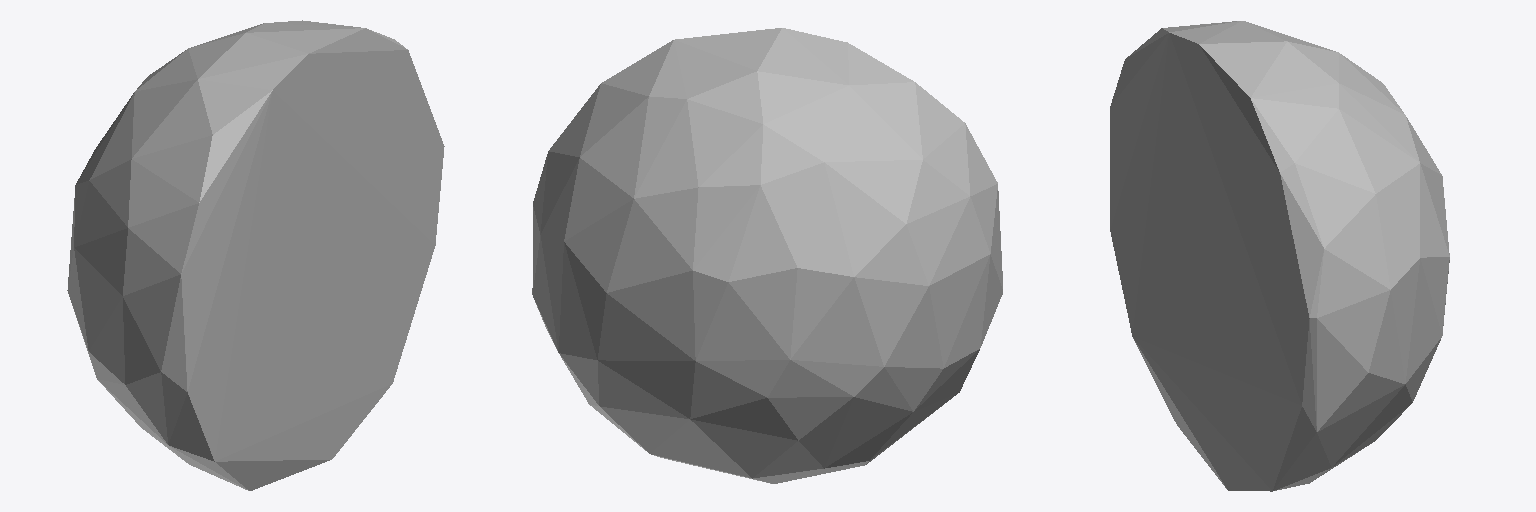
URDF robot description (root):
<robot name="root">
  <link name="link_thingiverse~half_dome_2878274_convex_piece_0">
    <inertial>
      <origin rpy="0 0 0" xyz="0 0 0"/>
      <mass value="1.54E-01"/>
      <inertia ixx="3.26E-05" ixy="5.97E-06" ixz="4.70E-08" iyy="4.23E-05" iyz="-1.66E-07" izz="2.99E-05"/>
    </inertial>
    <visual>
      <origin rpy="0 0 0" xyz="0 0 0"/>
      <geometry>
        <mesh filename="thingiverse~half_dome_2878274_convex_piece_0.obj" scale="1.0000E+00 1.0000E+00 1.0000E+00"/>
      </geometry>
      <material name="">
        <color rgba="7.50E-01 7.50E-01 7.50E-01 1"/>
      </material>
    </visual>
    <collision>
      <origin rpy="0 0 0" xyz="0 0 0"/>
      <geometry>
        <mesh filename="thingiverse~half_dome_2878274_convex_piece_0.obj" scale="1.0000E+00 1.0000E+00 1.0000E+00"/>
      </geometry>
    </collision>
  </link>
</robot>

--- Facts derived from the render (not from the file) ---
Views: 3 orthographic renders of the robot side by side, from view 1: azimuth 30°, elevation 25°; view 2: azimuth 150°, elevation 25°; view 3: azimuth 270°, elevation 25°.
Model root with 1 links and 0 joints (none), rooted at link_thingiverse~half_dome_2878274_convex_piece_0, posed every joint at zero.
Links seen in each view (by area): view 1: link_thingiverse~half_dome_2878274_convex_piece_0; view 2: link_thingiverse~half_dome_2878274_convex_piece_0; view 3: link_thingiverse~half_dome_2878274_convex_piece_0.
Boxes of the visible links, x1=… form: link_thingiverse~half_dome_2878274_convex_piece_0: x1=67, y1=20, x2=444, y2=490; link_thingiverse~half_dome_2878274_convex_piece_0: x1=532, y1=28, x2=1002, y2=483; link_thingiverse~half_dome_2878274_convex_piece_0: x1=1110, y1=21, x2=1449, y2=491.
Bounding box of the posed robot: 0.0512 × 0.0386 × 0.0537 m (x, y, z).
Meshes: 1 distinct files referenced, 1 mesh visuals loaded (1 OBJ).
